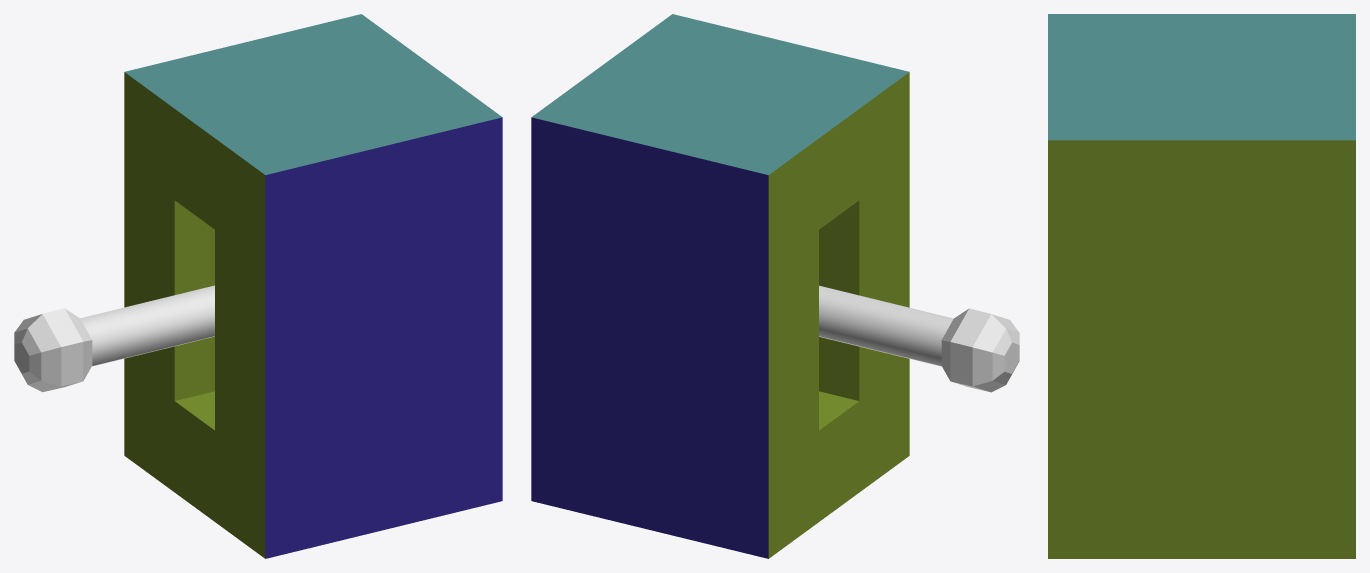
The model's file is Boitier_electrique.FBX.
3 renders of one model, left to right at view 1: azimuth 30°, elevation 25°; view 2: azimuth 150°, elevation 25°; view 3: azimuth 270°, elevation 25°, orthographic. The views are drawn at different scales.
Parts seen in each view (by area): view 1: Box005, manette; view 2: Box005, manette; view 3: Box005.
Part boxes in pixels (bbox=[...]): Box005: bbox=[124, 14, 502, 558]; manette: bbox=[14, 285, 214, 392]; Box005: bbox=[531, 14, 909, 558]; manette: bbox=[819, 285, 1019, 392]; Box005: bbox=[1048, 14, 1355, 558].
Size of the model in its own units: 33.56 by 30 by 20.
